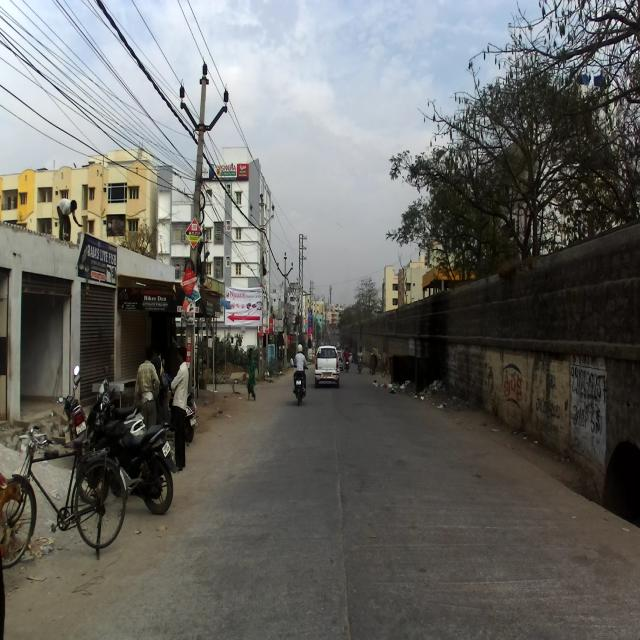bicycle ahead at: (5, 425, 130, 572)
person ahead at: (166, 342, 195, 465)
